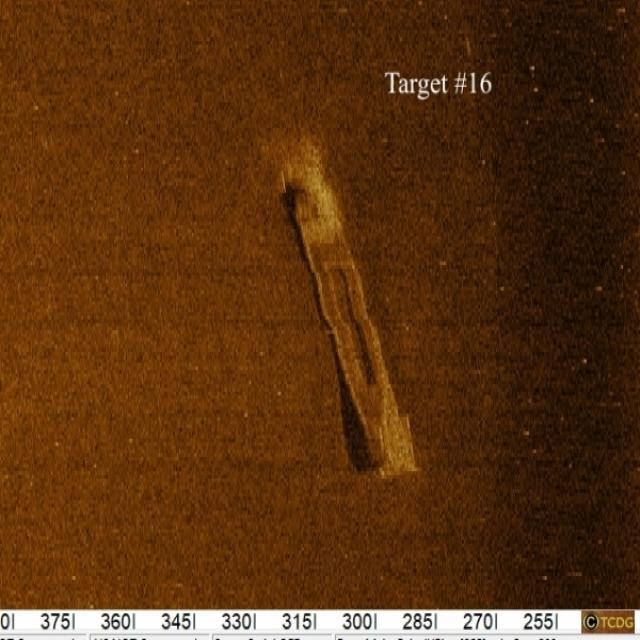ship: (280, 147, 422, 480)
